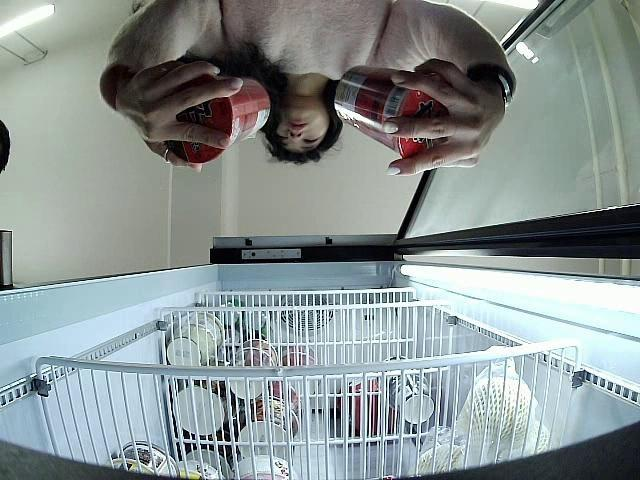02_shinRamen_S: (334, 63, 449, 160), (159, 74, 270, 168)
